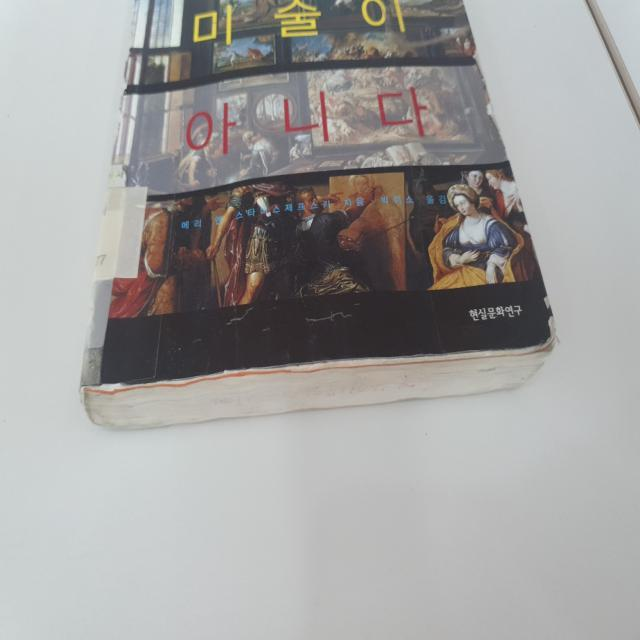Ripped: (514, 291, 565, 353), (482, 89, 510, 144), (468, 41, 492, 88)
Wornout: (382, 340, 499, 366), (243, 347, 331, 375), (112, 49, 133, 147), (75, 376, 151, 398)
